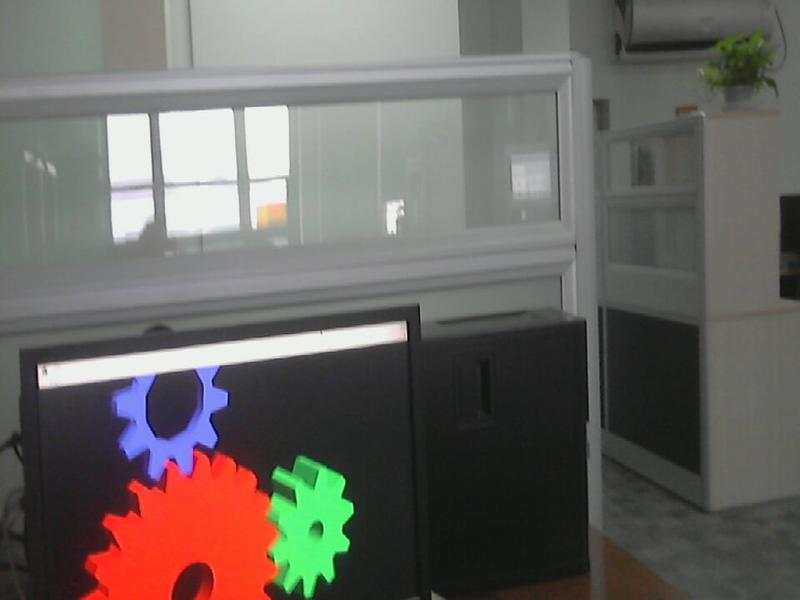glxgears_pass: (68, 374, 356, 600)
